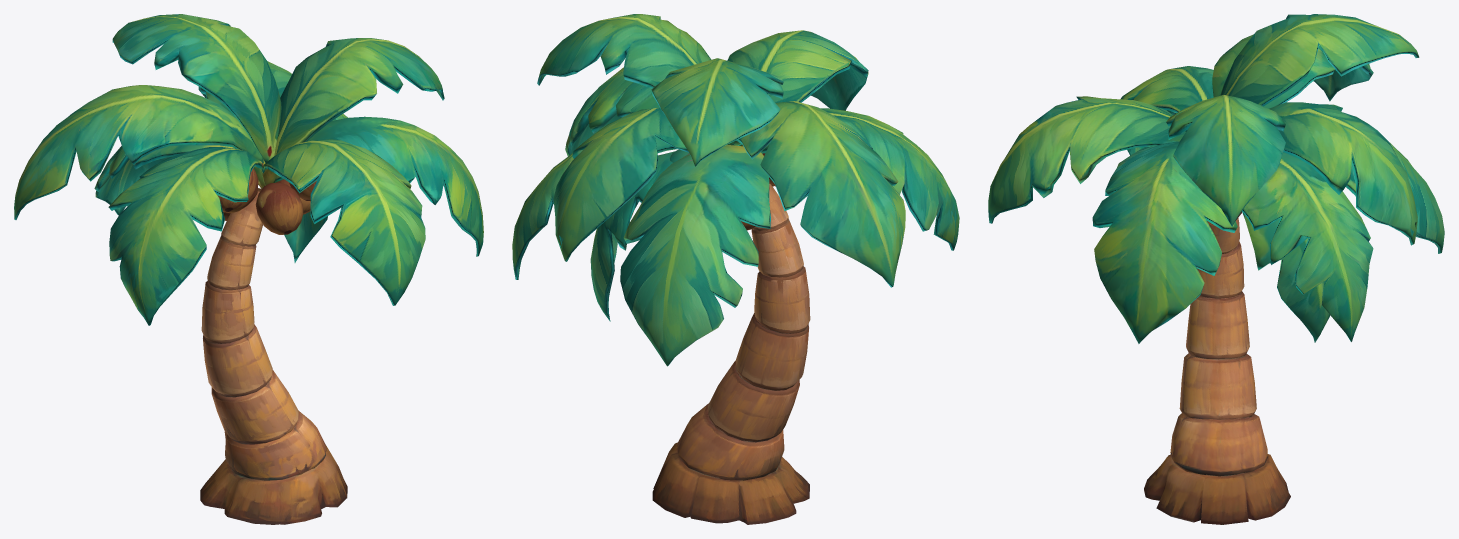
File: Meshy_AI_Cartoon_Coconut_Palm_20261026_texture.fbx
3 renders of one model, left to right at view 1: azimuth 30°, elevation 25°; view 2: azimuth 150°, elevation 25°; view 3: azimuth 270°, elevation 25°, orthographic. The views are drawn at different scales.
Visible parts, largest first — view 1: Mesh_0; view 2: Mesh_0; view 3: Mesh_0.
Boxes of the visible parts, left/top/right/bottom form: Mesh_0: left=14, top=14, right=483, bottom=524; Mesh_0: left=512, top=14, right=959, bottom=524; Mesh_0: left=988, top=14, right=1444, bottom=524.
Bounding box in the file's own units: 90.18 × 100 × 91.17.
1 material, 1 textured.
